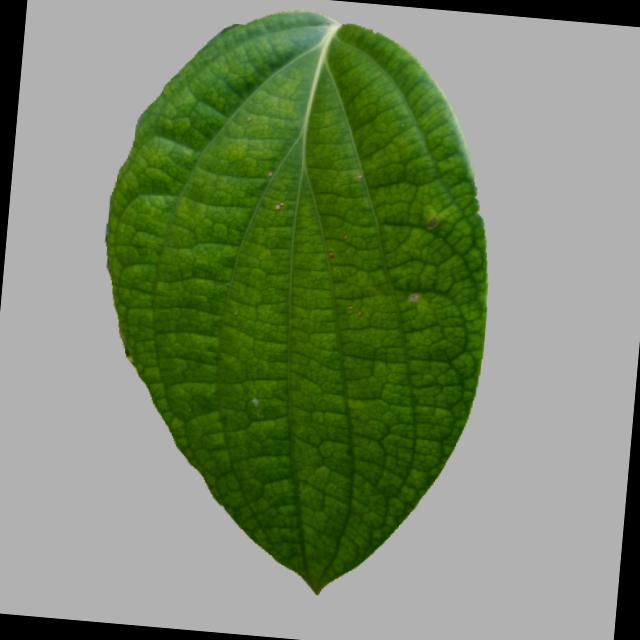healthy: (64, 0, 521, 613)
